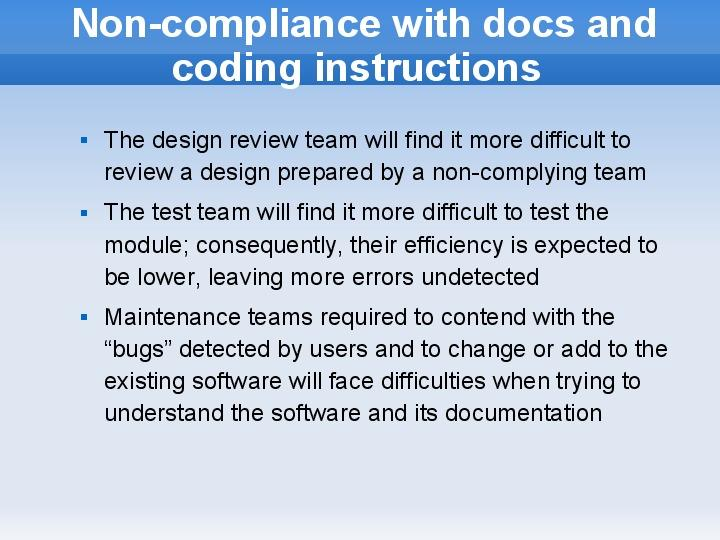paragraph: (76, 115, 695, 451)
title: (69, 5, 677, 109)
